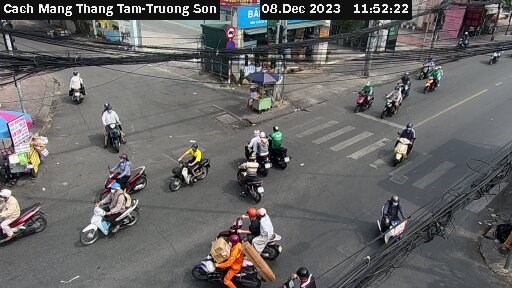motorbike: (222, 205, 290, 249), (1, 183, 47, 244), (360, 195, 418, 243), (83, 190, 140, 233), (83, 108, 138, 144), (169, 149, 214, 189), (264, 128, 301, 168), (388, 126, 422, 169), (231, 160, 266, 201), (104, 157, 149, 188), (235, 135, 270, 170), (62, 74, 98, 99), (383, 87, 406, 116), (420, 70, 441, 94), (410, 55, 434, 76), (356, 80, 374, 107), (394, 70, 413, 93)
